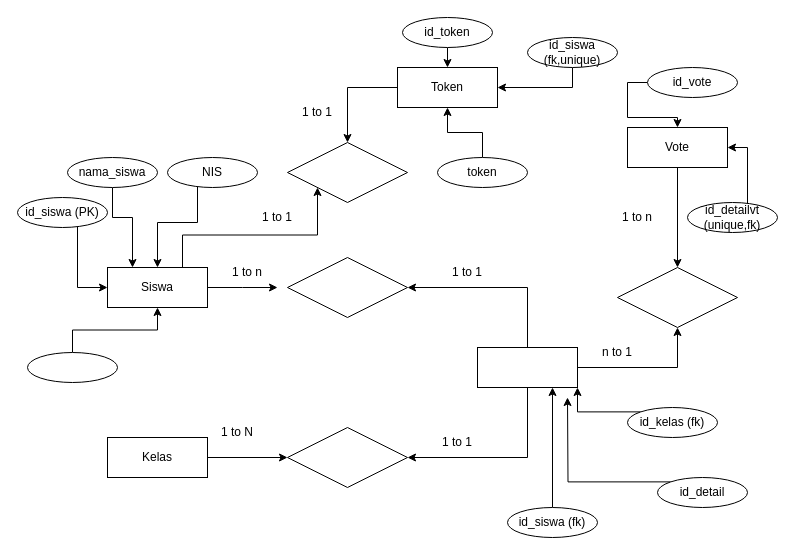
Some shapes in this 795 by 555 pixel diagram are drawn without their labels. Here are the shapes that lost their labels. From the top down, the centre of each, then its label:
At (x=347, y=172): "Memiliki".
At (x=347, y=287): "Melakukan Vote".
At (x=677, y=297): "Terdapat".
At (x=72, y=367): "kelas_siswa".
At (x=527, y=367): "Detail Vote".
At (x=347, y=457): "Mermiliki".
